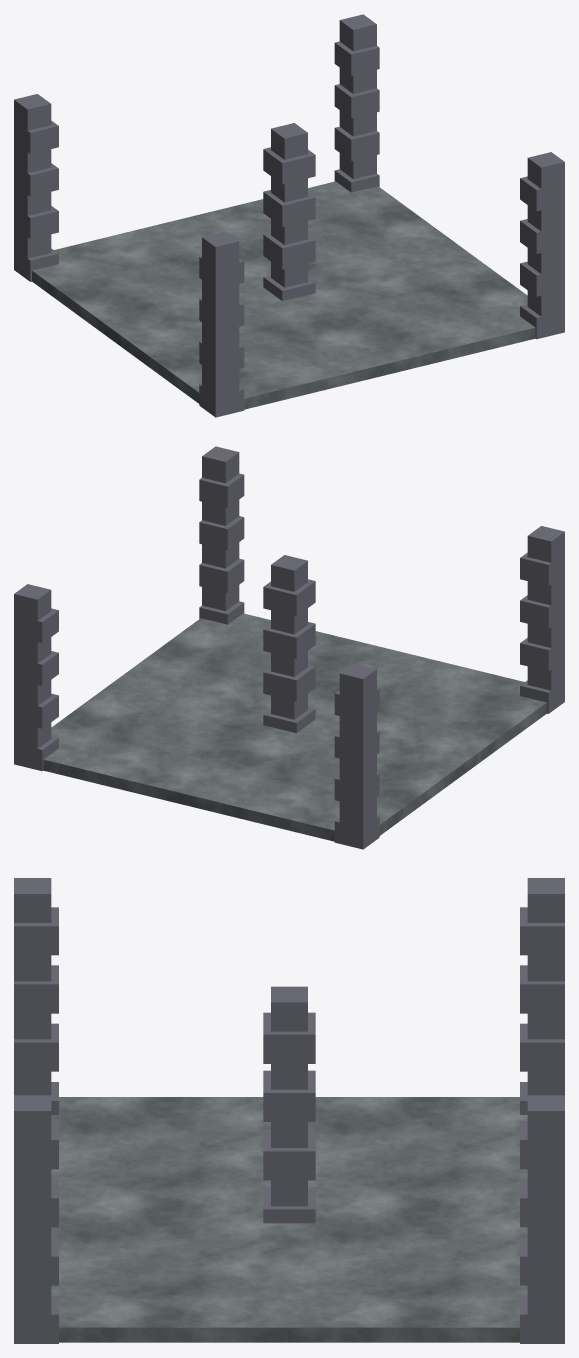
Rendered from intersection_4way_04.fbx.
3 renders of one model, top to bottom at view 1: azimuth 30°, elevation 25°; view 2: azimuth 150°, elevation 25°; view 3: azimuth 270°, elevation 25°, orthographic. The views are drawn at different scales.
Visible parts, largest first — view 1: floor_01_73, pillar_02_94, wall_borderBricks_98, wall_borderBricks_97, wall_borderBricks_95, wall_borderBricks_96; view 2: floor_01_73, pillar_02_94, wall_borderBricks_95, wall_borderBricks_96, wall_borderBricks_98, wall_borderBricks_97; view 3: floor_01_73, pillar_02_94, wall_borderBricks_96, wall_borderBricks_97, wall_borderBricks_95, wall_borderBricks_98.
Boxes of the visible parts, <box> form: floor_01_73: <box>32,181,535,409</box>; pillar_02_94: <box>263,123,315,301</box>; wall_borderBricks_98: <box>199,231,244,417</box>; wall_borderBricks_97: <box>520,152,564,339</box>; wall_borderBricks_95: <box>14,94,58,281</box>; wall_borderBricks_96: <box>334,14,379,192</box>; floor_01_73: <box>43,613,546,841</box>; pillar_02_94: <box>263,555,315,733</box>; wall_borderBricks_95: <box>334,663,379,849</box>; wall_borderBricks_96: <box>14,584,58,771</box>; wall_borderBricks_98: <box>520,526,564,713</box>; wall_borderBricks_97: <box>199,446,244,624</box>; floor_01_73: <box>51,1097,527,1342</box>; pillar_02_94: <box>263,986,315,1223</box>; wall_borderBricks_96: <box>520,1095,564,1343</box>; wall_borderBricks_97: <box>14,1095,58,1343</box>; wall_borderBricks_95: <box>520,878,564,1114</box>; wall_borderBricks_98: <box>14,878,58,1114</box>.
Size of the model in its own units: 21.45 by 10 by 21.45.
